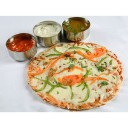dosa: (31, 42, 126, 107)
